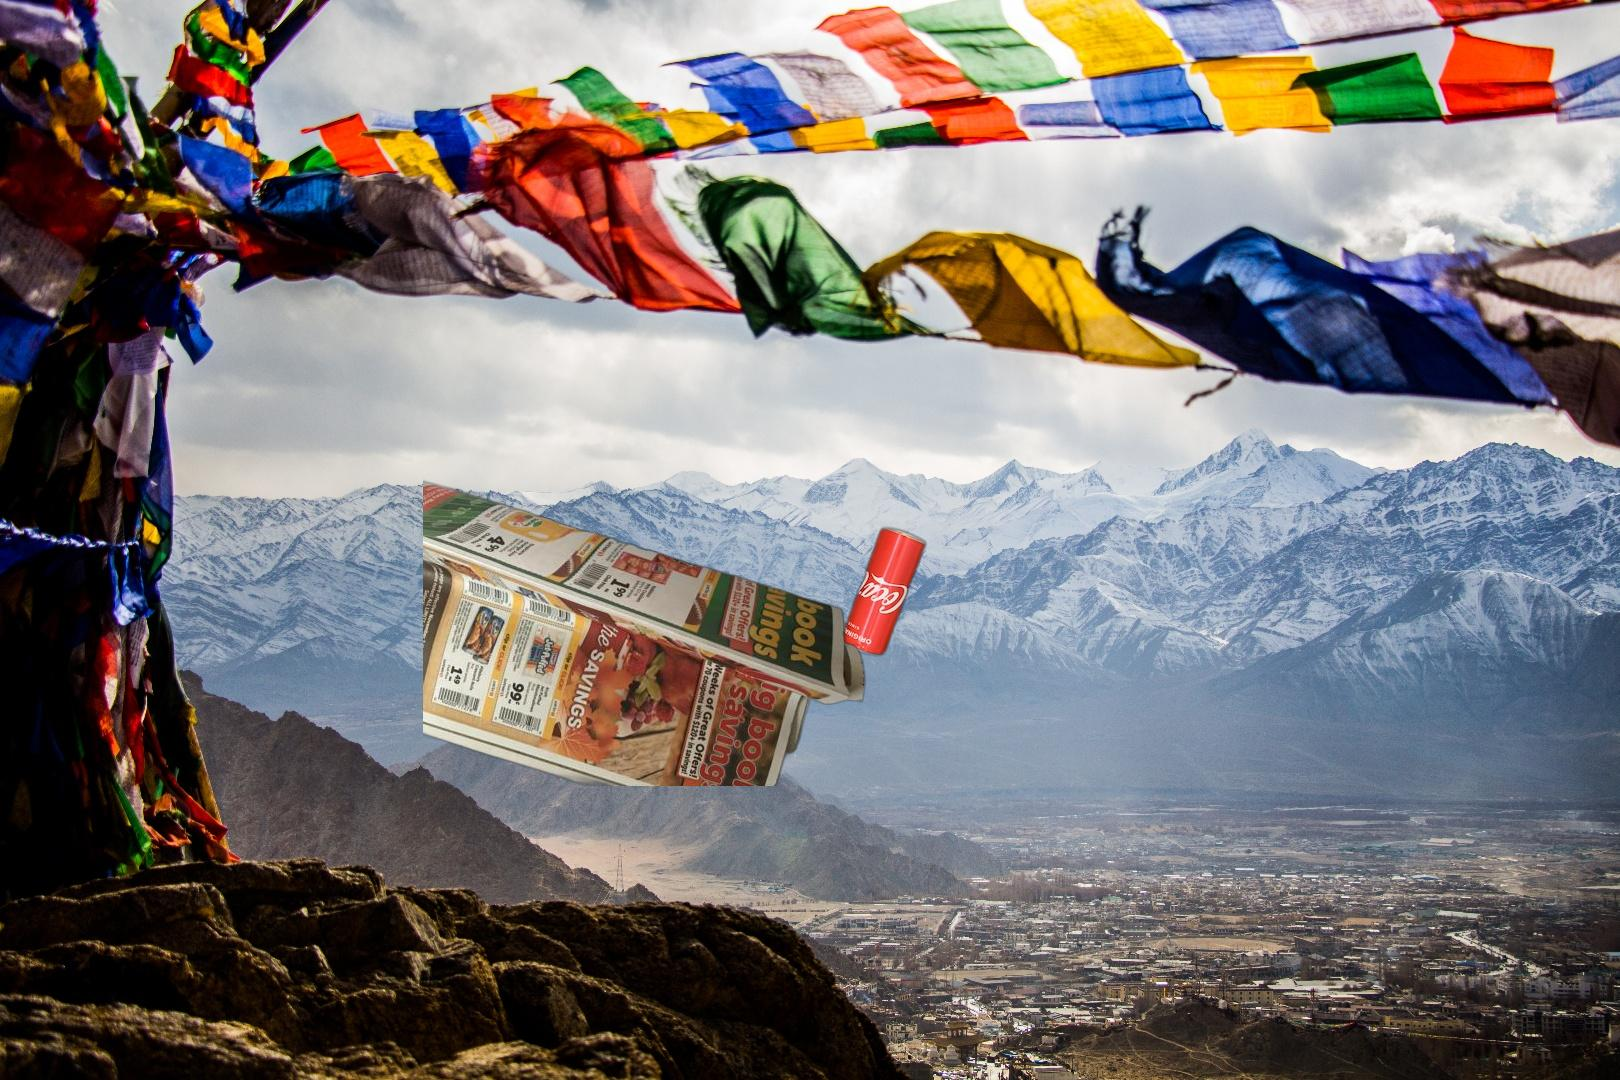metal-cans: (838, 521, 931, 661)
paper: (423, 476, 870, 786)
